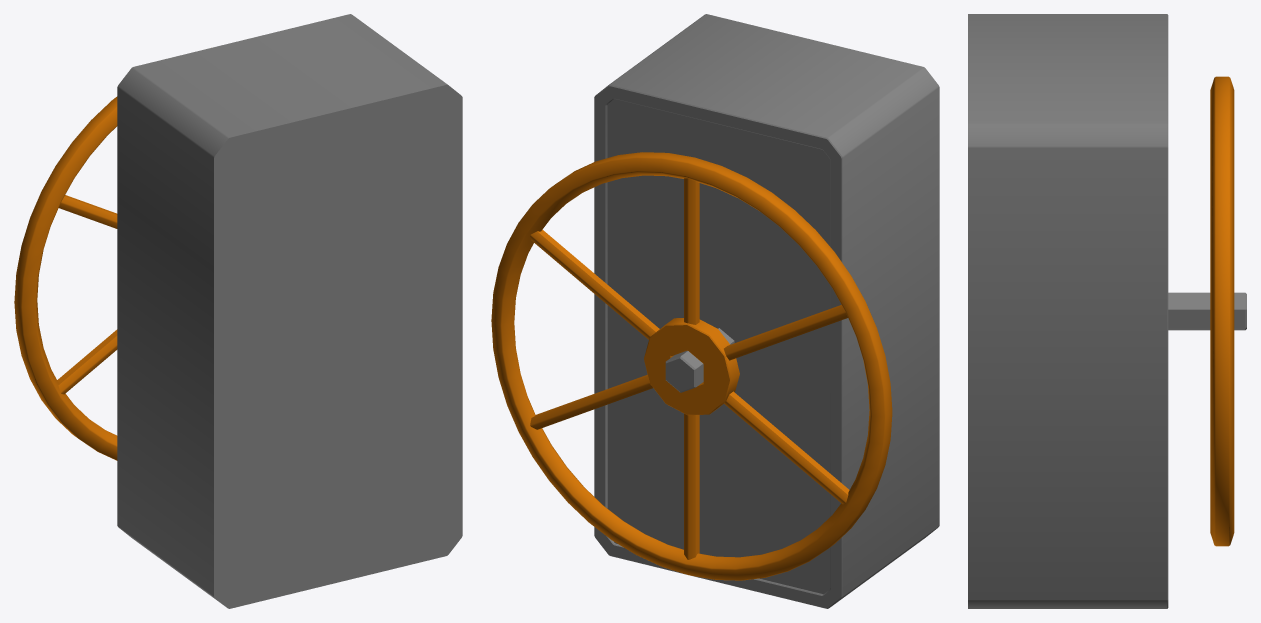
Rendered from Outpost_Valve.fbx.
The picture shows the model from 3 angles, left to right: view 1: azimuth 30°, elevation 25°; view 2: azimuth 150°, elevation 25°; view 3: azimuth 270°, elevation 25°; orthographic projection. The views are drawn at different scales.
Visible parts, largest first — view 1: Valve, Wheel; view 2: Valve, Wheel, Pin; view 3: Valve, Wheel, Pin.
Part boxes in pixels (x1,y1,x2,y2): Valve: (117, 14, 462, 608); Wheel: (14, 96, 117, 460); Valve: (594, 14, 939, 608); Wheel: (491, 152, 892, 580); Pin: (665, 328, 734, 392); Valve: (968, 14, 1168, 608); Wheel: (1210, 76, 1234, 546); Pin: (1168, 292, 1246, 330).
Size of the model in its own units: 0.9005 by 0.5347 by 1.03.
